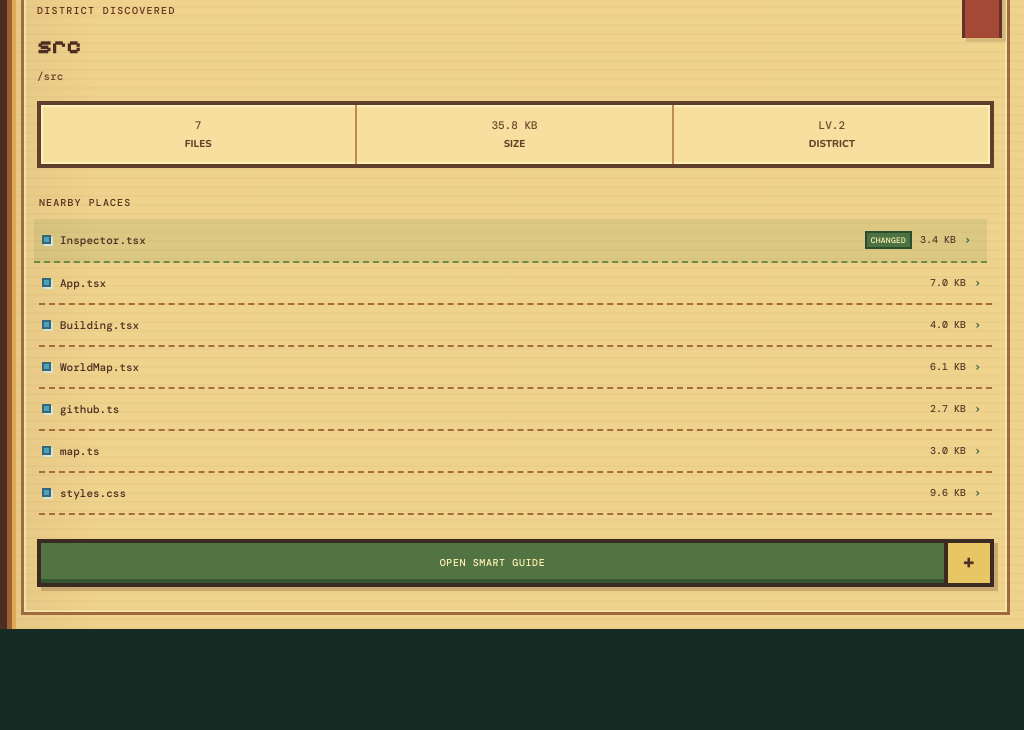
Scenario: Inspector smart guide › shows stack, startup, imports, and test signals from local static analysis
Click the button "OPEN SMART GUIDE +" at x=516, y=563, box [37,539,994,587]
(page scrolled)
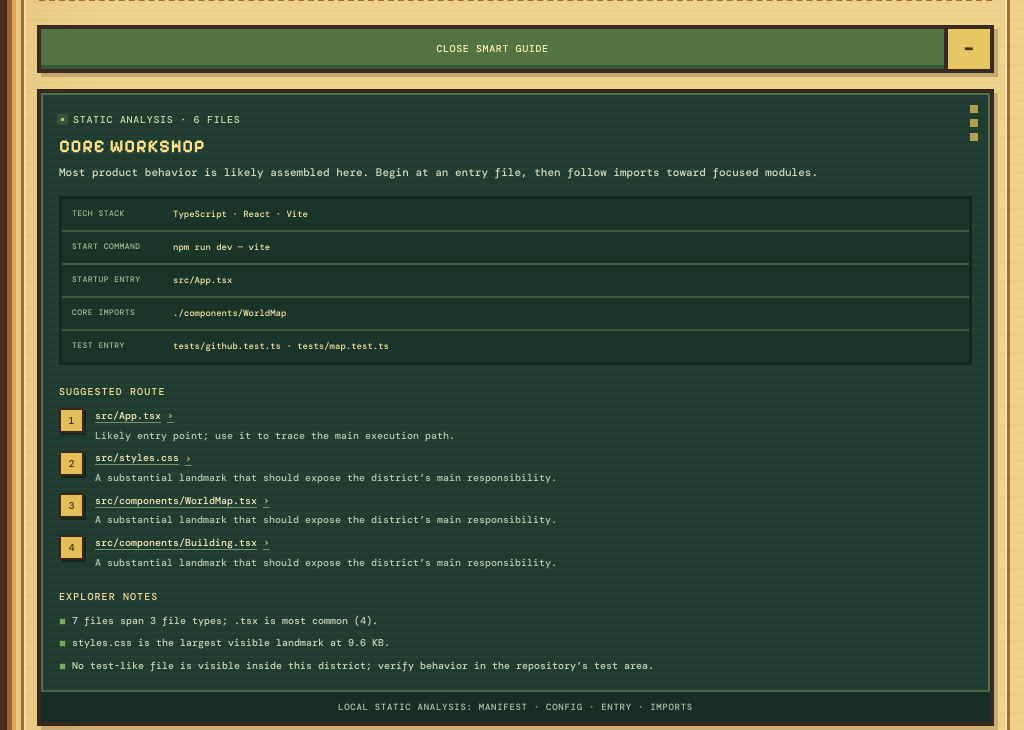
Expected: the text "STATIC ANALYSIS · 6 FILES" is shown, [59,113,240,126]
Expected: the text "TypeScript · React · Vite" is shown, [173,208,308,220]
Expected: the text "npm run dev — vite" is shown, [173,241,270,253]
